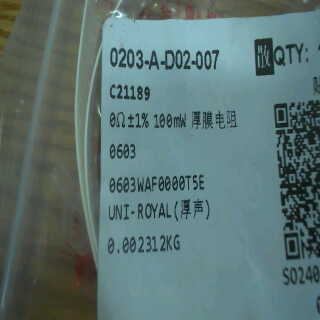0R: (107, 105, 190, 161)
